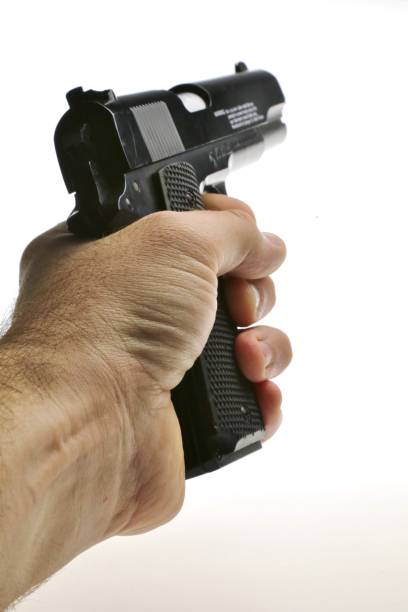pistol: (55, 55, 293, 467)
